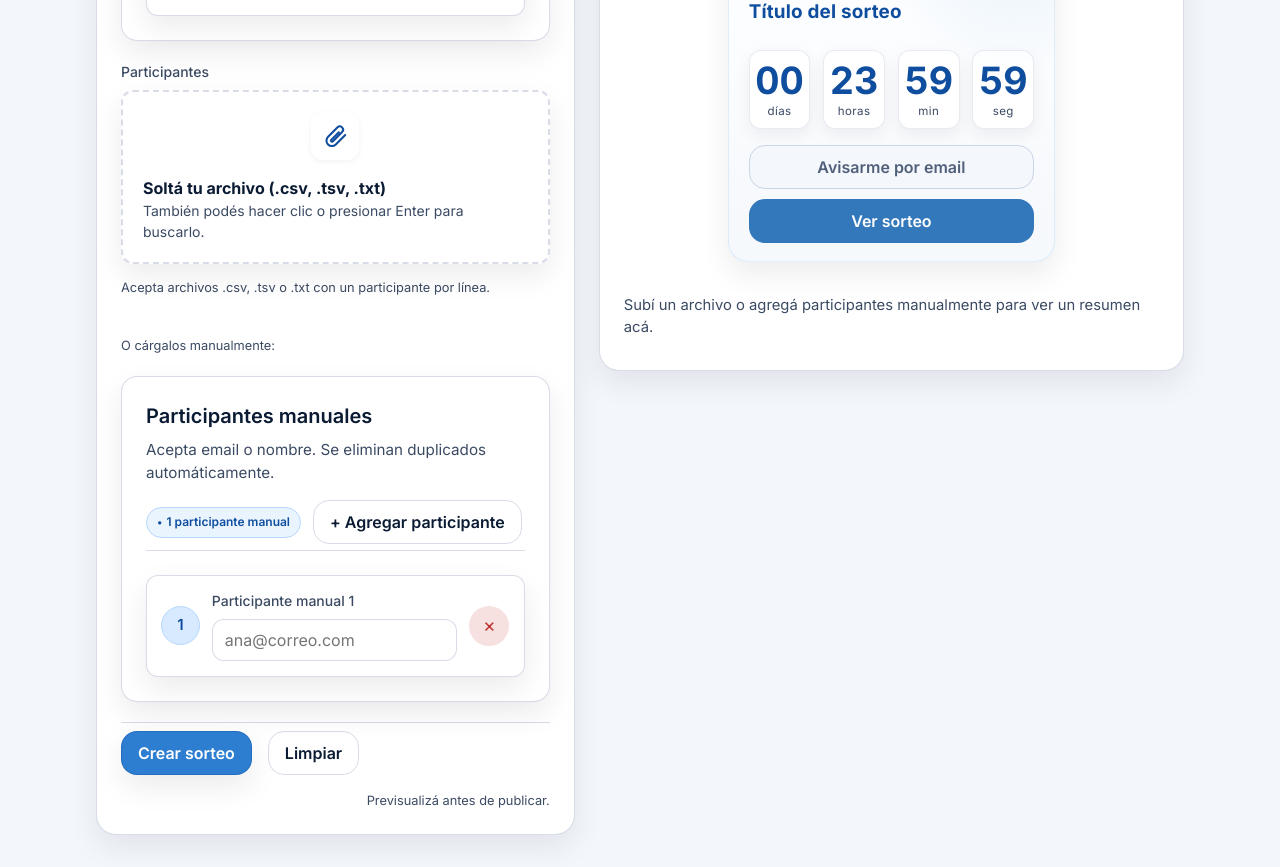
AdminDashboard › muestra errores inline accesibles al fallar la validación
The width and height of the screenshot is (1280, 867).
(page scrolled)
Step 1. Click the button "Crear sorteo" → [186, 752], box [121,730,252,774]
(page scrolled)
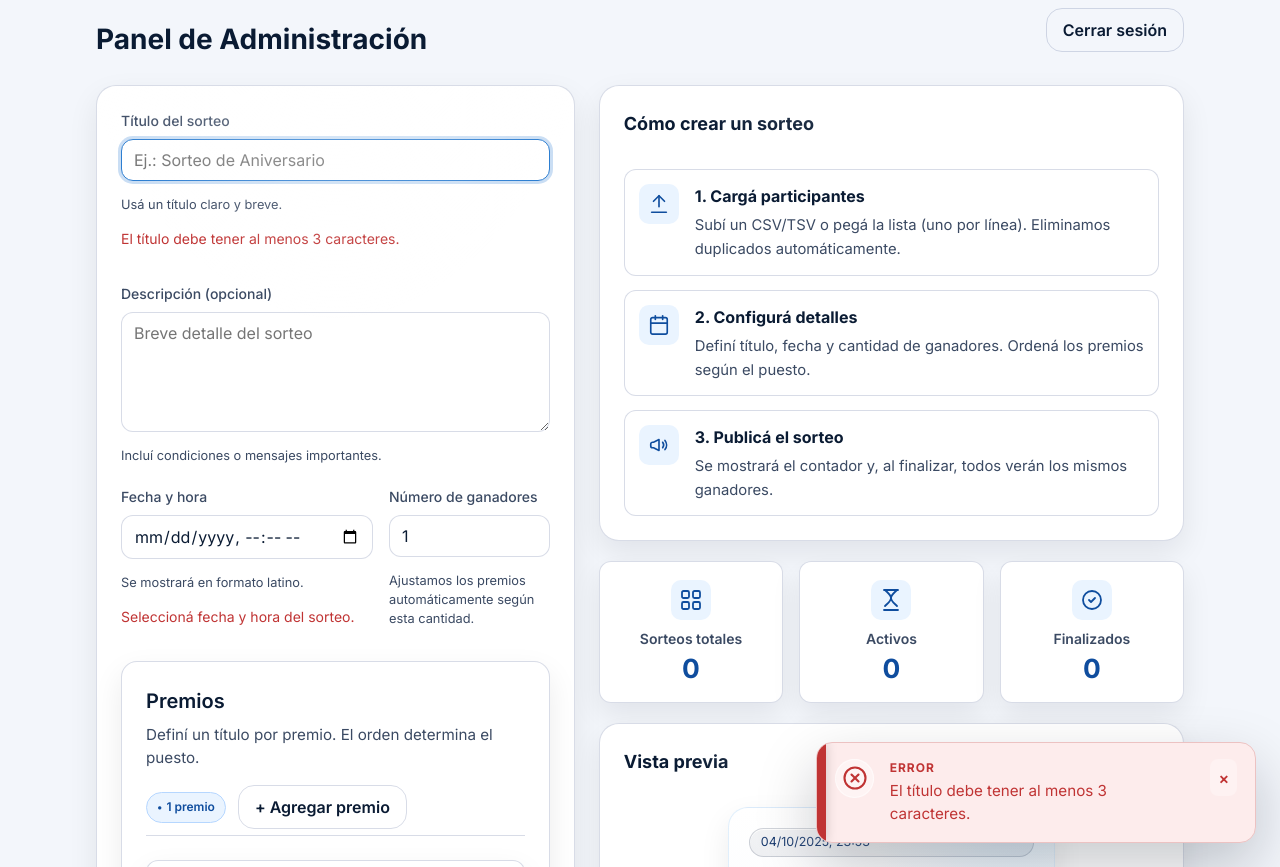
Now the text "El título debe tener al menos 3 caracteres." is shown, box [121,230,400,247]
